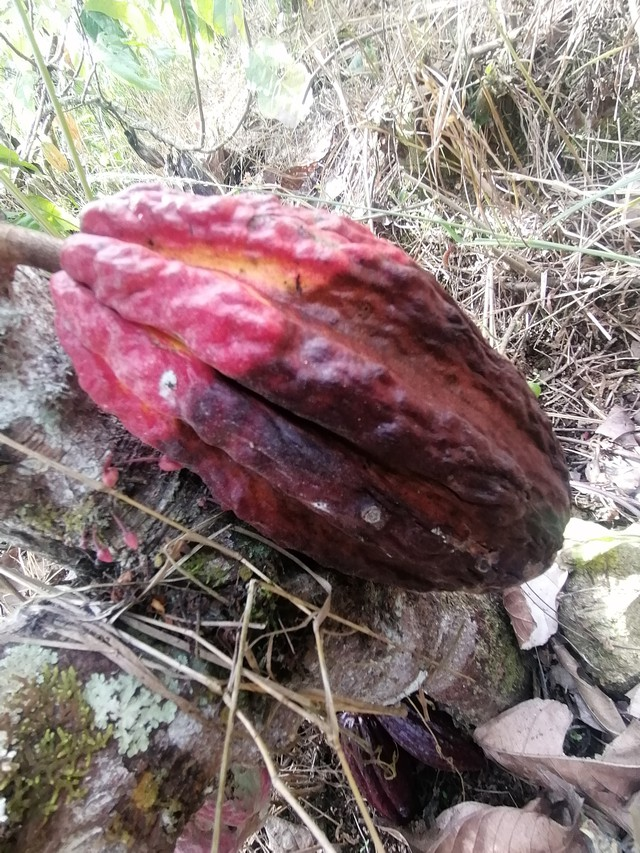phytophthora palmivora: (33, 168, 584, 602)
